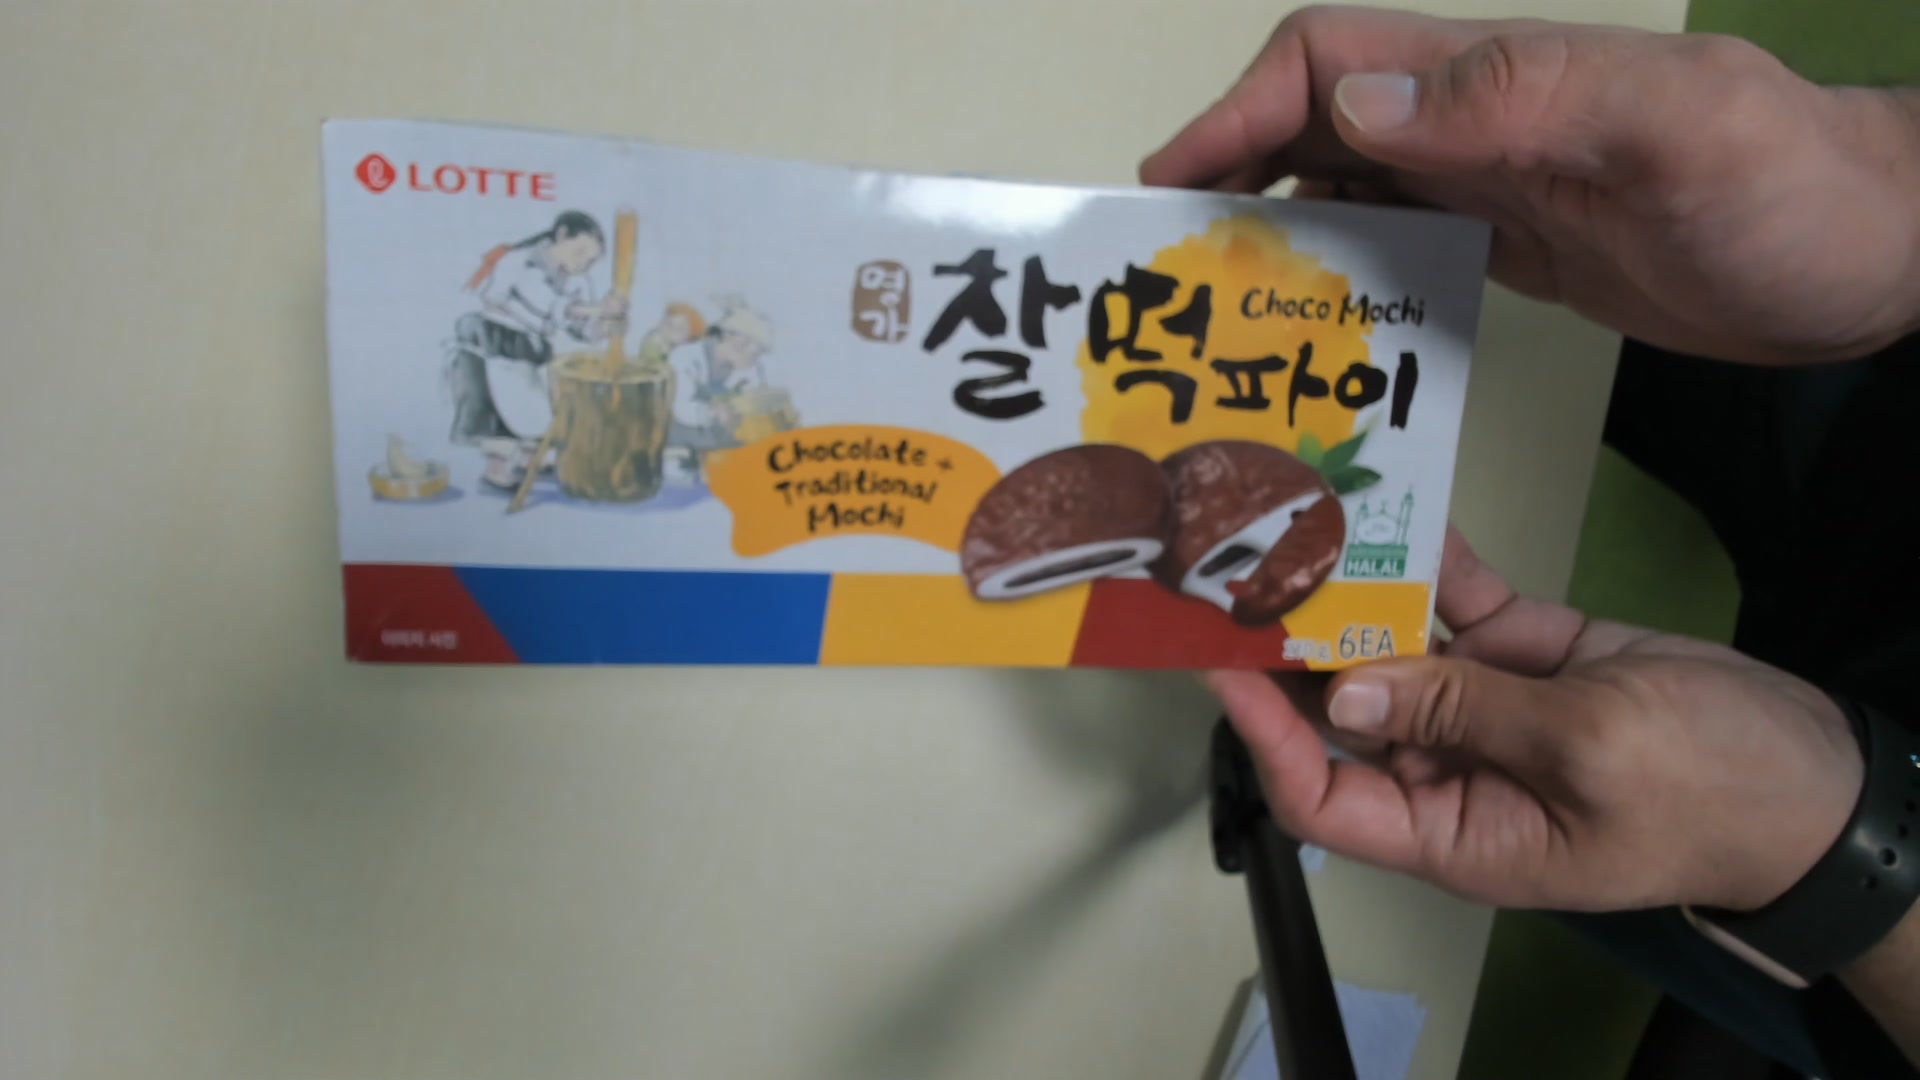SweetsChocolatesOthers_200-299g_NonHalal_Nonhealthy: (315, 113, 1501, 674)
